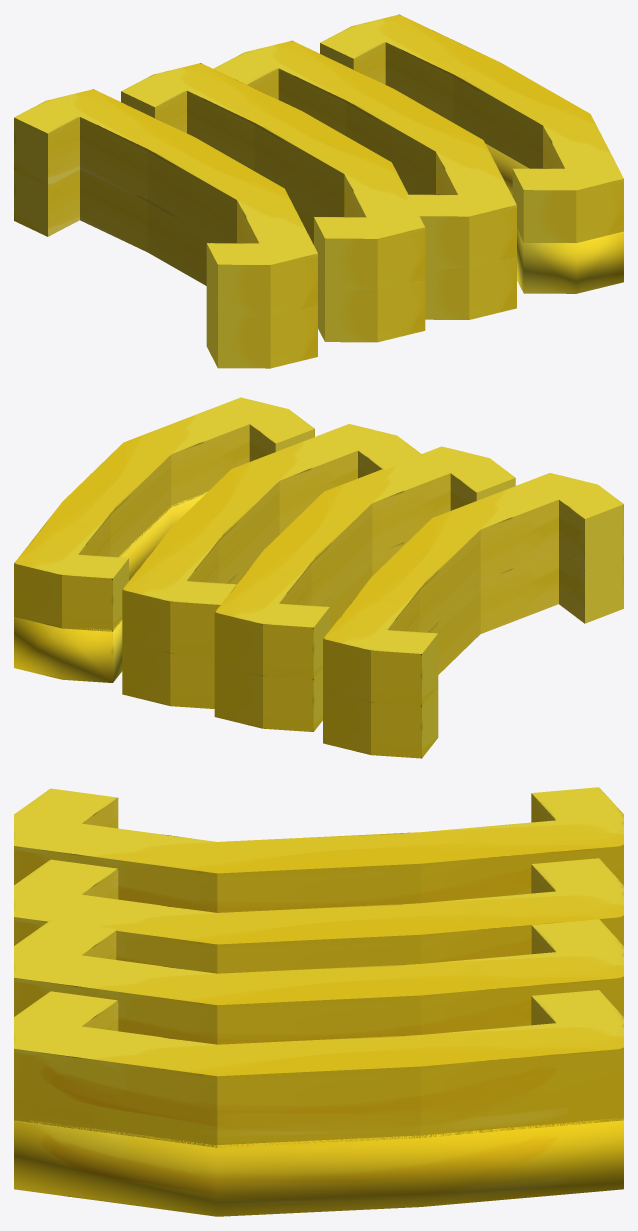
The model's file is Paprikas.FBX.
3 renders of one model, top to bottom at view 1: azimuth 30°, elevation 25°; view 2: azimuth 150°, elevation 25°; view 3: azimuth 270°, elevation 25°, orthographic. The views are drawn at different scales.
Visible parts, largest first — view 1: 파프리카; view 2: 파프리카; view 3: 파프리카.
Part boxes in pixels (x1=…): 파프리카: x1=14, y1=14, x2=623, y2=368; 파프리카: x1=14, y1=397, x2=623, y2=758; 파프리카: x1=14, y1=787, x2=623, y2=1216.
Bounding box in the file's own units: 19.72 × 4.47 × 17.59.
